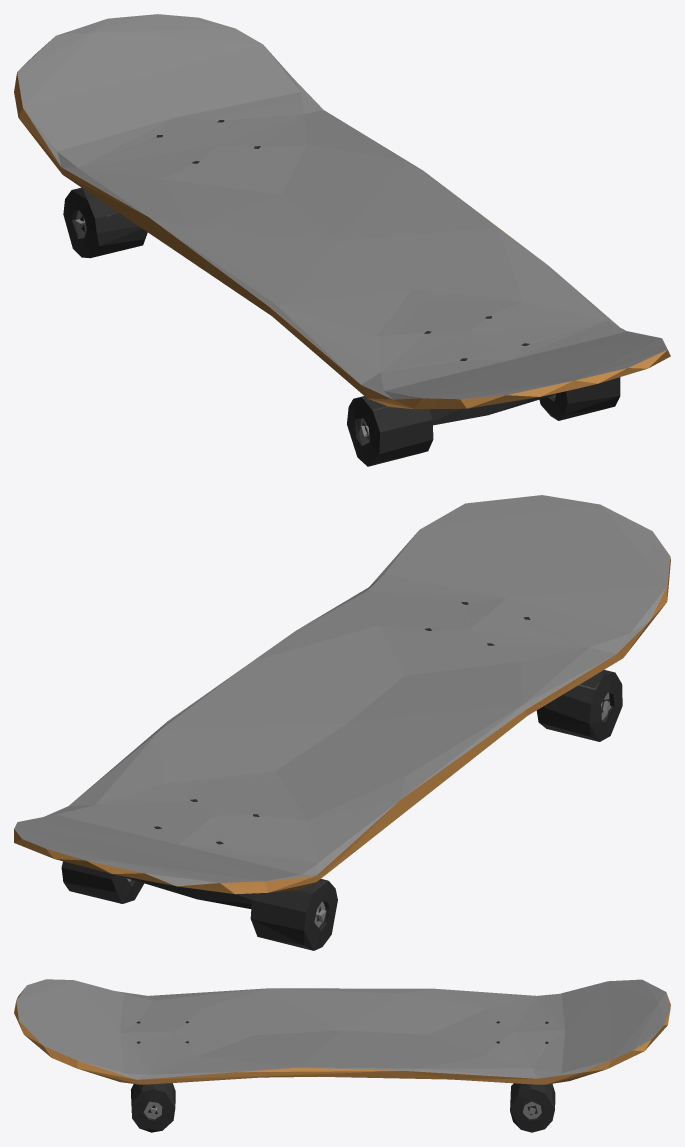
Rendered from SkateBoardScaled.fbx.
3 renders of one model, top to bottom at view 1: azimuth 30°, elevation 25°; view 2: azimuth 150°, elevation 25°; view 3: azimuth 270°, elevation 25°, orthographic. The views are drawn at different scales.
Parts seen in each view (by area): view 1: polySurface21.003; view 2: polySurface21.003; view 3: polySurface21.003.
Part boxes in pixels (box(x1,y1,x2,y2)): polySurface21.003: box(14, 14, 670, 466); polySurface21.003: box(14, 495, 670, 950); polySurface21.003: box(14, 979, 670, 1132).
Size of the model in its own units: 0.3 by 0.15 by 1.
